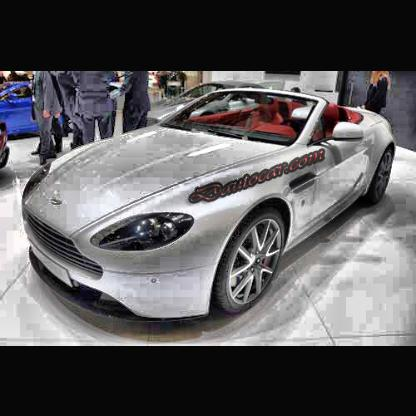Aston Martin Virage Convertible 2012: (25, 89, 397, 320)
